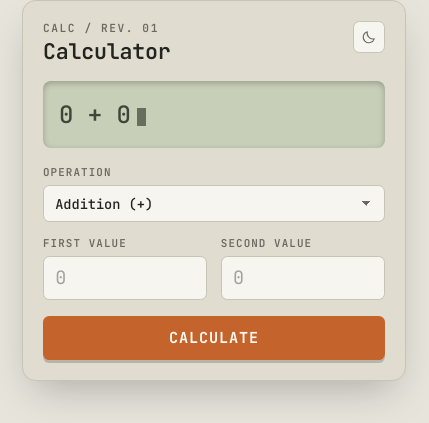
Test: Calculator › submits the selected operation and displays the result
In the number field labelled "First value": (125, 278) [43,256,207,300], type "35"
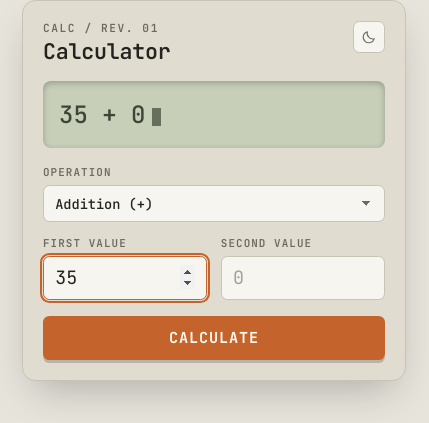
In the number field labelled "Second value": (303, 278) [221,256,385,300], type "7"
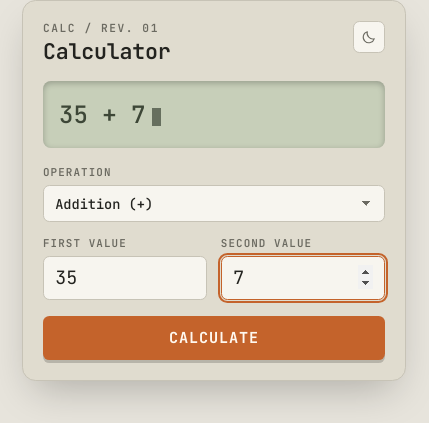
Click the button "Calculate": (214, 338) [43,316,385,360]
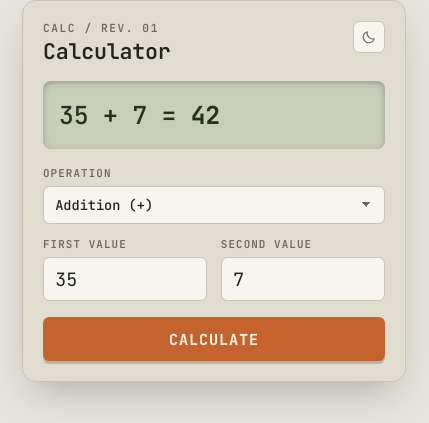
Expected: the element with test id "result" reads "35 + 7 = 42", [59,99,220,131]
